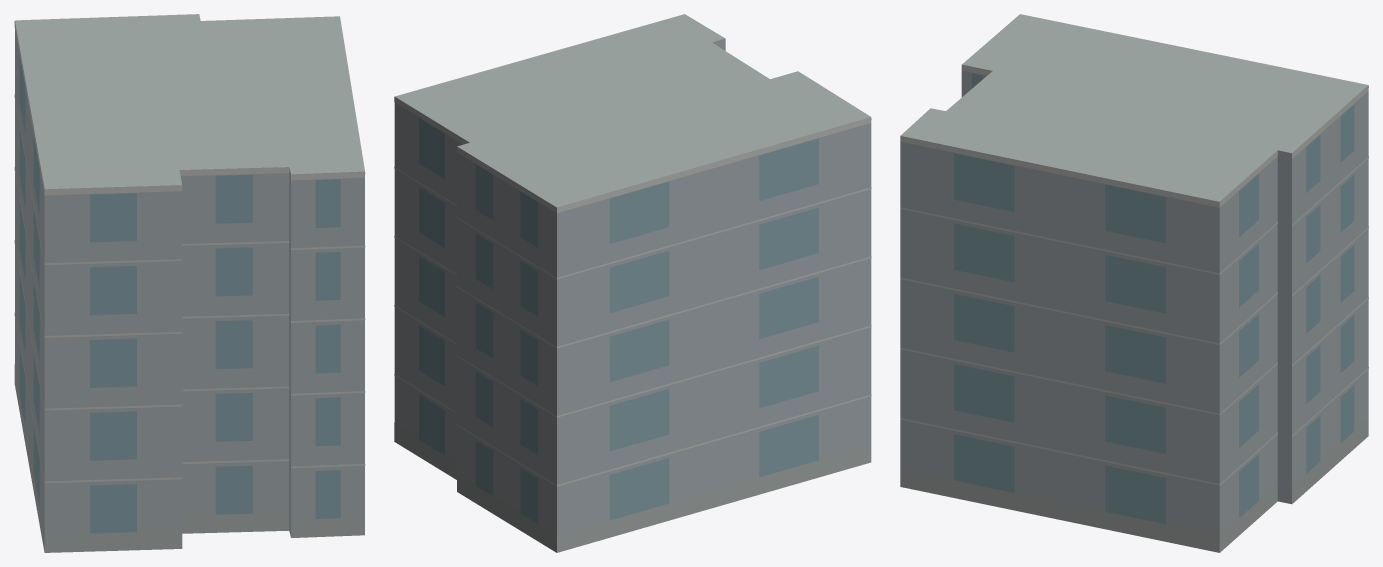
Rendered from survey-upis-32801716.glb.
3 views of the same model, side by side, from view 1: azimuth 30°, elevation 25°; view 2: azimuth 150°, elevation 25°; view 3: azimuth 270°, elevation 25° (orthographic). The views are drawn at different scales.
Visible parts, largest first — view 1: survey-upis-32801716.tmp; view 2: survey-upis-32801716.tmp; view 3: survey-upis-32801716.tmp.
Boxes of the visible parts, bbox=[...] form: survey-upis-32801716.tmp: bbox=[14, 14, 365, 552]; survey-upis-32801716.tmp: bbox=[394, 14, 871, 552]; survey-upis-32801716.tmp: bbox=[900, 14, 1368, 552].
Bounding box in the file's own units: 16.72 × 14.55 × 17.61.
